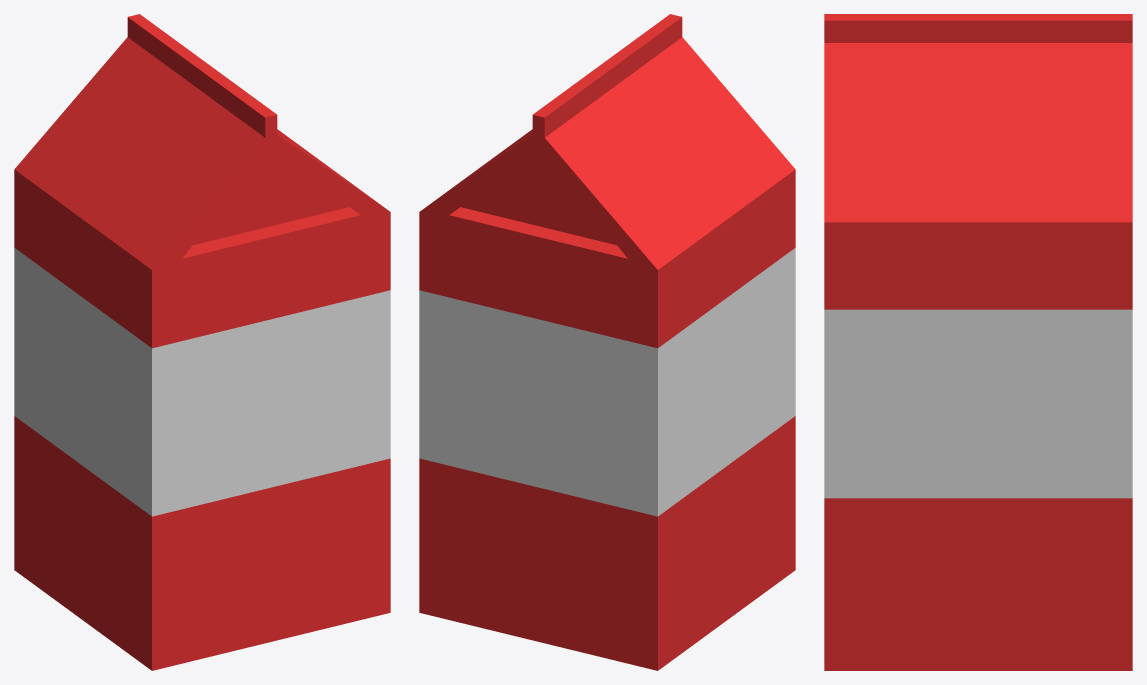
Rendered from MilkCartonRed.fbx.
3 renders of one model, left to right at view 1: azimuth 30°, elevation 25°; view 2: azimuth 150°, elevation 25°; view 3: azimuth 270°, elevation 25°, orthographic. The views are drawn at different scales.
Visible parts, largest first — view 1: MilkCartonRed; view 2: MilkCartonRed; view 3: MilkCartonRed.
Part boxes in pixels (left/top/right/bottom): MilkCartonRed: left=14, top=14, right=390, bottom=670; MilkCartonRed: left=419, top=14, right=795, bottom=670; MilkCartonRed: left=824, top=14, right=1132, bottom=670.
Bounding box in the file's own units: 0.1669 × 0.3514 × 0.1669.
